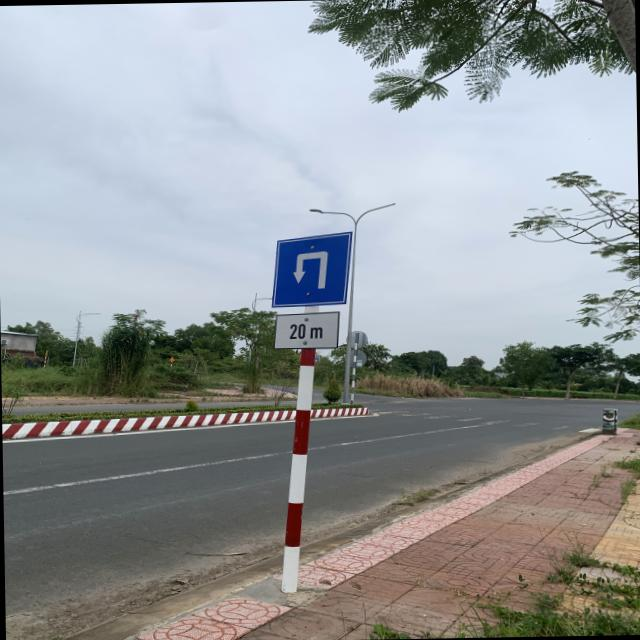Den_Giao_Thong: (270, 230, 356, 305)
